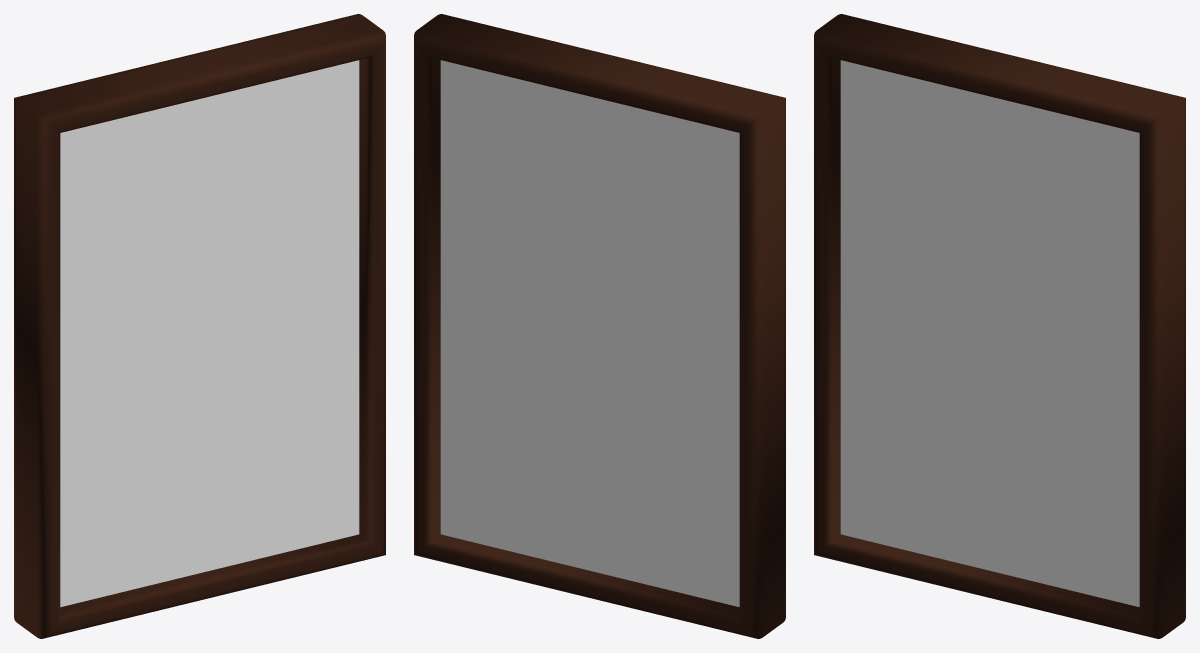
The model's file is A_NJ_Window_001.fbx.
3 renders of one model, left to right at view 1: azimuth 30°, elevation 25°; view 2: azimuth 150°, elevation 25°; view 3: azimuth 330°, elevation 25°, orthographic.
Parts seen in each view (by area): view 1: Window; view 2: Window; view 3: Window.
Part boxes in pixels (box(x1,y1,x2,y2)): Window: box(14, 14, 385, 638); Window: box(414, 14, 785, 638); Window: box(814, 14, 1185, 638).
Bounding box in the file's own units: 90 × 130 × 15.
